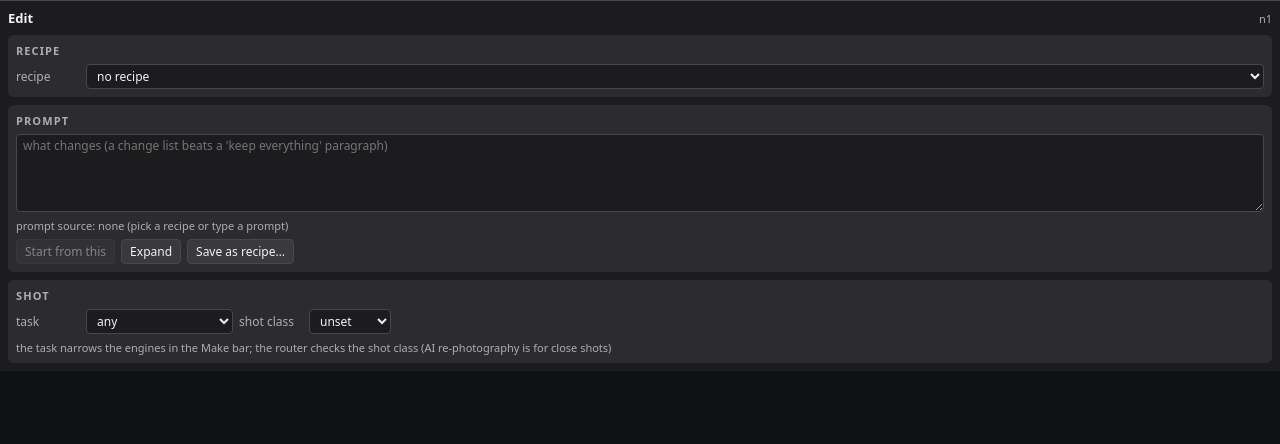
EditEditor recipes › Start from this copies the assembled text into params.prompt and the source line flips to explicit
Check: the button with test id "edit-start-from" is disabled, box x1=16 y1=239 x2=115 y2=264
Step 1. Select "Twilight hero · nano-banana-2.1" in the dropdown with test id "edit-recipe" → (675, 76), box x1=86 y1=64 x2=1264 y2=89
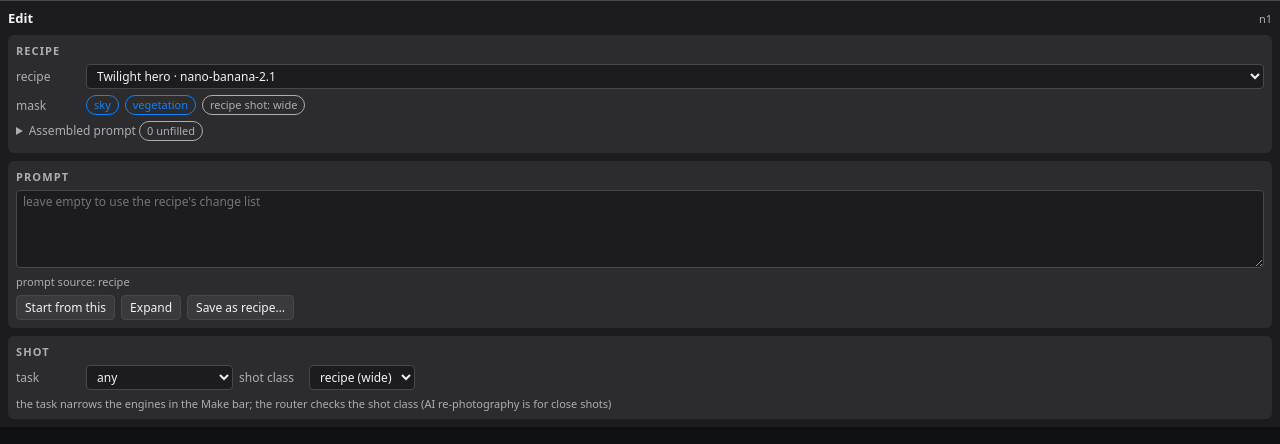
Check: the button with test id "edit-start-from" is enabled
Step 2. Click the button with test id "edit-start-from" → (66, 308), box x1=16 y1=295 x2=115 y2=320
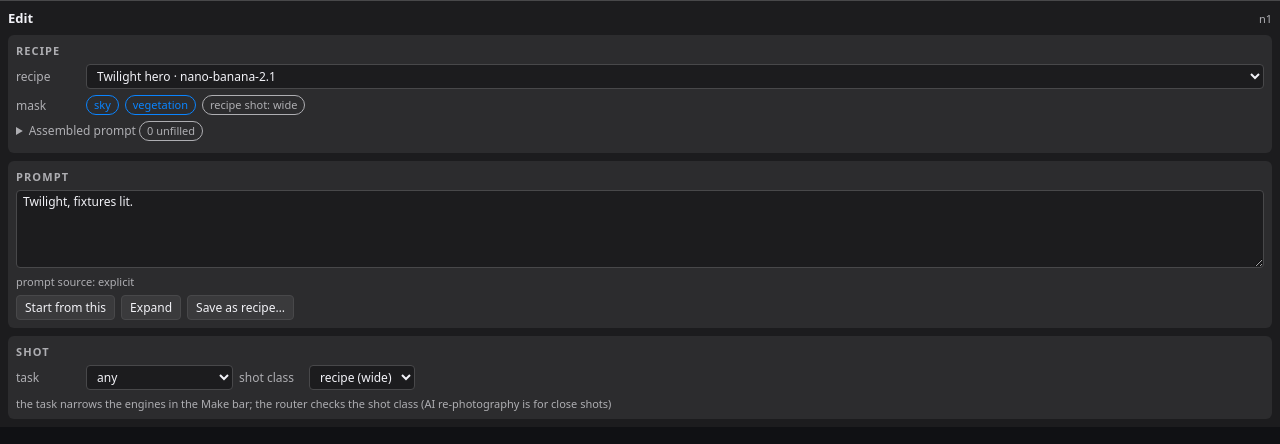
Check: the text box with test id "edit-prompt" holds "Twilight, fixtures lit.", box x1=16 y1=190 x2=1264 y2=268
